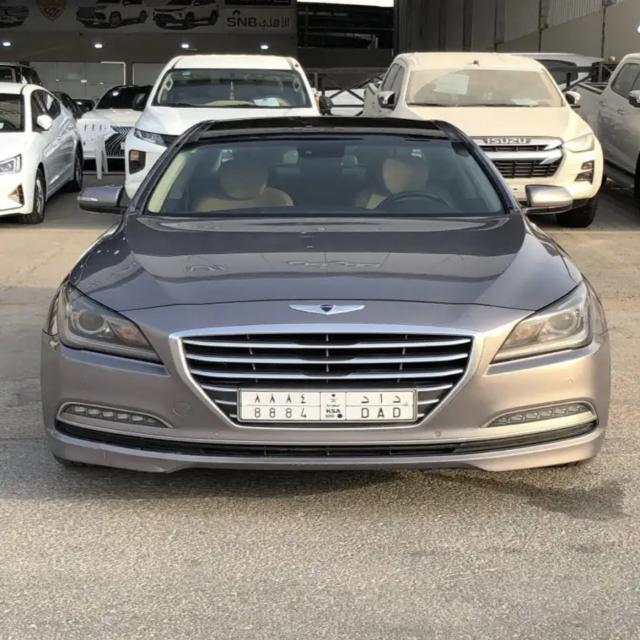license_plate: (237, 388, 417, 424)
